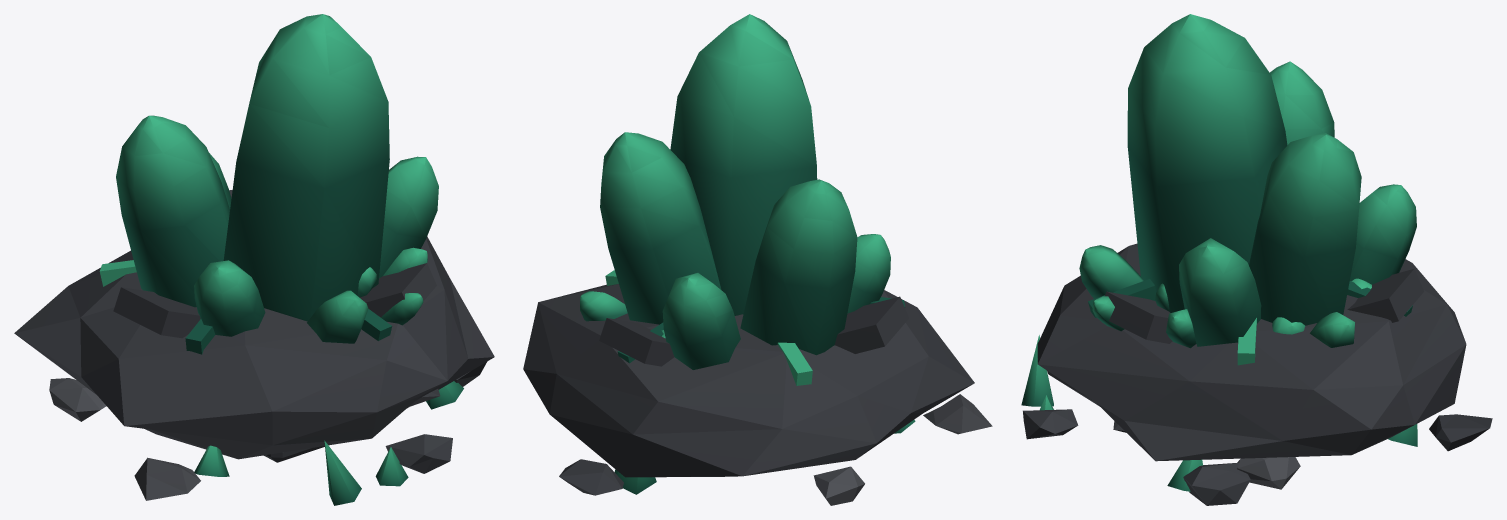
File: dun_cursed_crystal.glb
3 renders of one model, left to right at view 1: azimuth 30°, elevation 25°; view 2: azimuth 150°, elevation 25°; view 3: azimuth 270°, elevation 25°, orthographic. The views are drawn at different scales.
Parts seen in each view (by area): view 1: dun_cursed_crystal; view 2: dun_cursed_crystal; view 3: dun_cursed_crystal.
Boxes of the visible parts, box(x1,y1,x2,y2) form: dun_cursed_crystal: box(14, 14, 494, 505); dun_cursed_crystal: box(523, 14, 992, 505); dun_cursed_crystal: box(1021, 14, 1492, 505).
Size of the model in its own units: 0.7983 by 0.8183 by 0.8216.
